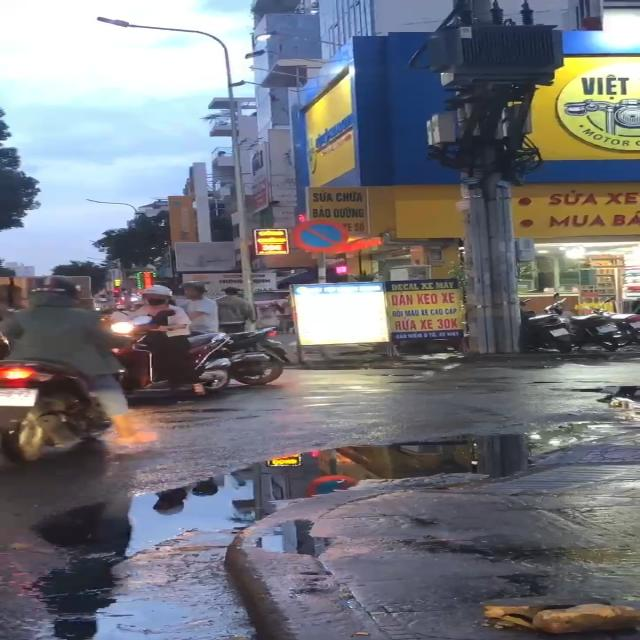Bien bao cam do xe: (292, 217, 354, 254)
